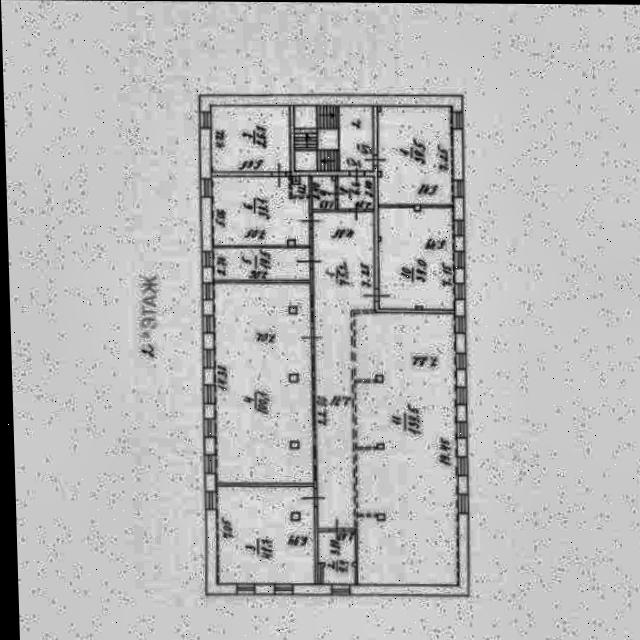room: (351, 312, 456, 586), (309, 210, 373, 528), (211, 281, 310, 484), (214, 485, 312, 586), (375, 207, 451, 310), (374, 105, 449, 205), (209, 176, 307, 245), (207, 106, 287, 171), (291, 106, 370, 171), (210, 247, 307, 280), (316, 531, 353, 584), (335, 176, 371, 208), (309, 176, 332, 209), (288, 175, 306, 196)
